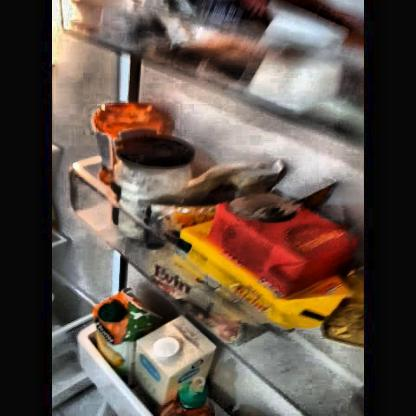butter: (159, 232, 327, 328)
milk: (136, 322, 197, 398)
